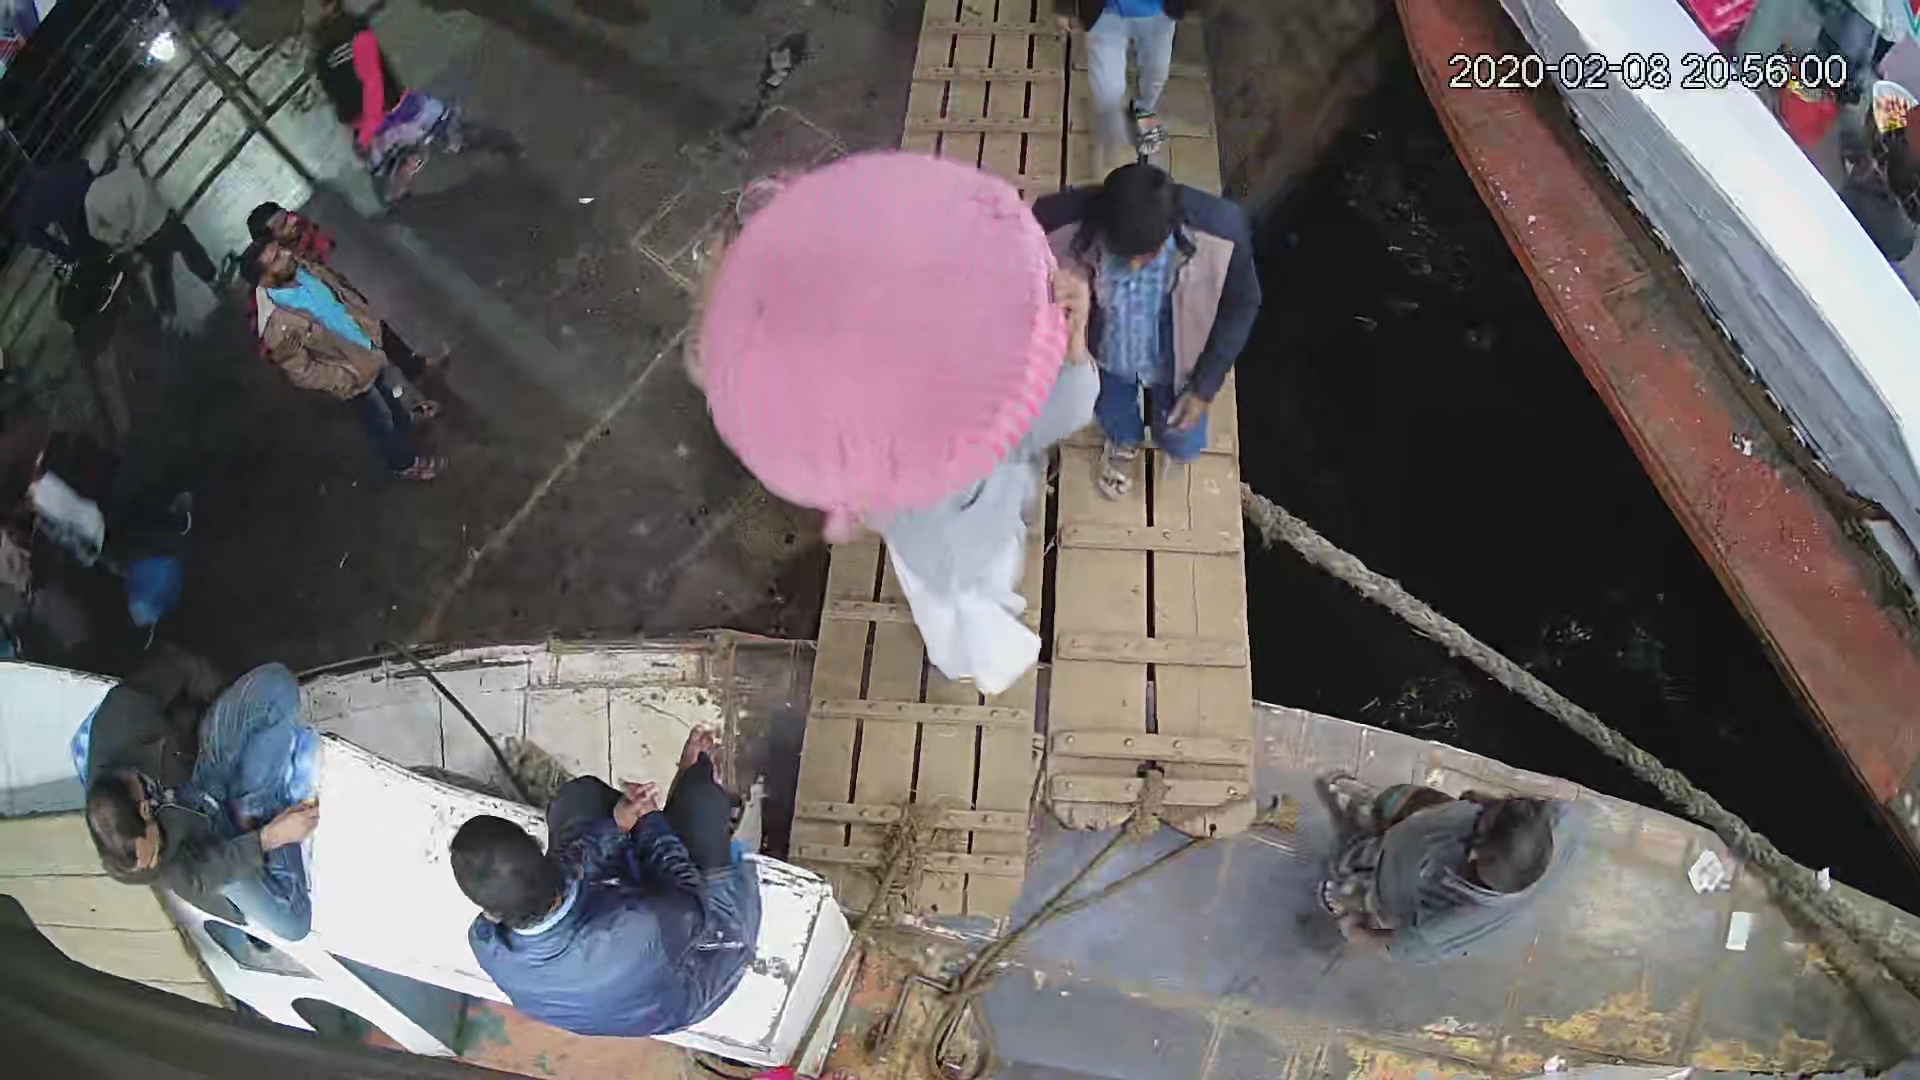person: (693, 139, 1084, 700), (442, 723, 771, 1043), (1047, 160, 1267, 507), (79, 640, 319, 949), (1309, 759, 1577, 973), (234, 234, 450, 484), (296, 1, 497, 215), (1051, 1, 1197, 175)
